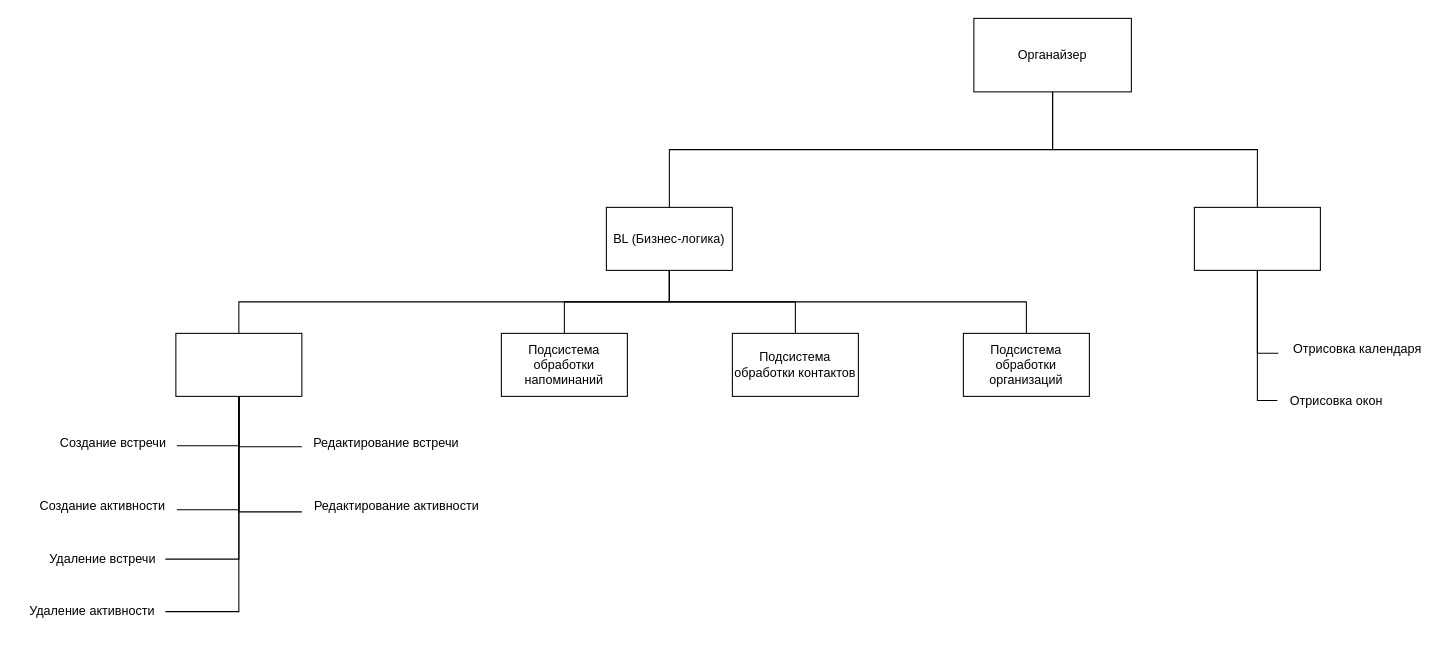
The diagram is 1453 pixels wide and 646 high, and some of its shapes have lost their labels. Each missing label, with the centre of its shape:
Desktop (Приложение): the point at 1256,238
Подсистема обработки событий: the point at 238,364
